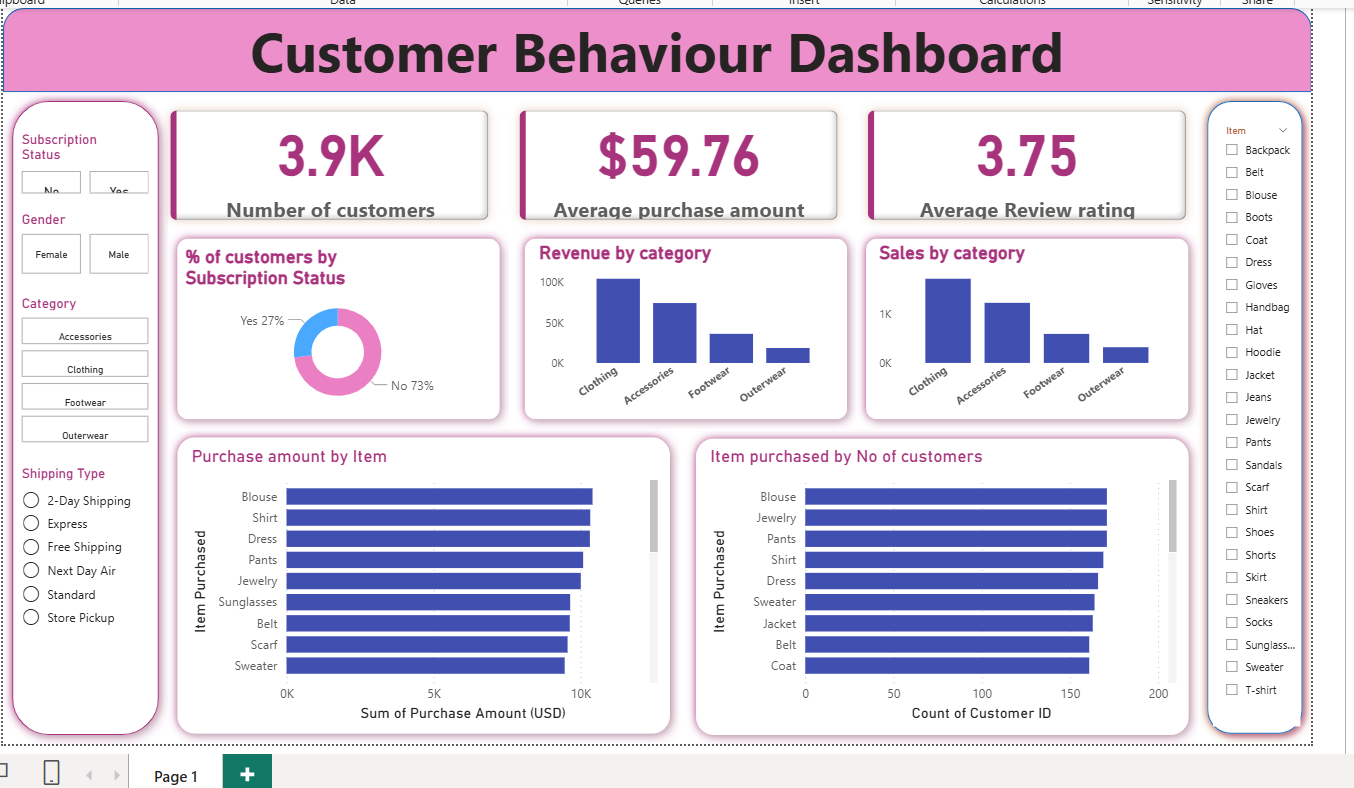

The dashboard page shown, as its layout file describes it:
{"tool":"powerbi","page":{"name":"Page 1","canvas":[1280,720],"ordinal":0},"visuals":[{"type":"cardVisual","fields":{"Data":["public customer.Measure","public customer.Average purchase amount","public customer.Average Review rating"]},"box":[148,84.4,1027.2,139.4],"z":0},{"type":"shape","box":[0,0,1280.3,82.3],"z":1000},{"type":"textbox","box":[0,0,1280.3,82],"z":2000},{"type":"shape","box":[161.4,216.5,333.5,195],"z":3000},{"type":"donutChart","title":"% of customers by Subscription Status","fields":{"Category":["public customer.Subscription Status"],"Y":["CountNonNull(public customer.Customer ID)"]},"box":[173.5,232.7,308,164.1],"z":4000},{"type":"shape","box":[501.6,216.5,333.5,195],"z":5000},{"type":"shape","box":[835.1,216.5,333.5,195],"z":6000},{"type":"clusteredColumnChart","title":"Revenue by category","fields":{"Y":["Sum(public customer.Purchase Amount (USD))"],"Category":["public customer.Category"]},"box":[519.1,228.6,298.6,170.8],"z":7000},{"type":"clusteredColumnChart","title":"Sales by category","fields":{"Y":["CountNonNull(public customer.Customer ID)"],"Category":["public customer.Category"]},"box":[852.6,228.6,298.6,170.8],"z":8000},{"type":"shape","box":[0,81.9,161.4,638.3],"z":9000},{"type":"advancedSlicerVisual","fields":{"Values":["public customer.Subscription Status"]},"box":[13.5,121.1,134.5,66],"z":10000},{"type":"advancedSlicerVisual","fields":{"Values":["public customer.Gender"]},"box":[13.5,199.3,134.5,66],"z":10001},{"type":"advancedSlicerVisual","fields":{"Values":["public customer.Category"]},"box":[13.5,281.3,134.5,149.2],"z":10002},{"type":"listSlicer","fields":{"Values":["public customer.Shipping Type"]},"box":[13.5,447.6,134.5,212.8],"z":10003},{"type":"shape","box":[668.9,412.1,500.1,308.2],"z":10005},{"type":"shape","box":[161.4,410.9,500.1,308.2],"z":10006},{"type":"clusteredBarChart","title":"Purchase amount by Item","fields":{"Y":["Sum(public customer.Purchase Amount (USD))"],"Category":["public customer.Item Purchased"]},"box":[179.8,428,465.9,275.1],"z":10007},{"type":"clusteredBarChart","title":"Item purchased by No of customers","fields":{"Y":["CountNonNull(public customer.Customer ID)"],"Category":["public customer.Item Purchased"]},"box":[687.2,428,465.9,275.1],"z":10008},{"type":"shape","box":[1169,81.9,111.3,637.1],"z":10009},{"type":"slicer","title":"Item ","fields":{"Values":["public customer.Item Purchased"]},"box":[1183.7,110.1,85.6,593.1],"z":10010}]}

Visuals, with their boxes on the page's 1280x720 design canvas (x1, y1, x2, y2). These are canvas units, not pixel positions in the 1354x788 screenshot, which may show the page scaled, cropped or inside an application window:
cardVisual - public customer.Measure x public customer.Average purchase amount: [148,84,1175,224]
shape: [0,0,1280,82]
textbox: [0,0,1280,82]
shape: [161,216,495,412]
"% of customers by Subscription Status" donutChart: [174,233,482,397]
shape: [502,216,835,412]
shape: [835,216,1169,412]
"Revenue by category" clusteredColumnChart: [519,229,818,399]
"Sales by category" clusteredColumnChart: [853,229,1151,399]
shape: [0,82,161,720]
advancedSlicerVisual - public customer.Subscription Status: [14,121,148,187]
advancedSlicerVisual - public customer.Gender: [14,199,148,265]
advancedSlicerVisual - public customer.Category: [14,281,148,430]
listSlicer - public customer.Shipping Type: [14,448,148,660]
shape: [669,412,1169,720]
shape: [161,411,662,719]
"Purchase amount by Item" clusteredBarChart: [180,428,646,703]
"Item purchased by No of customers" clusteredBarChart: [687,428,1153,703]
shape: [1169,82,1280,719]
"Item " slicer: [1184,110,1269,703]
